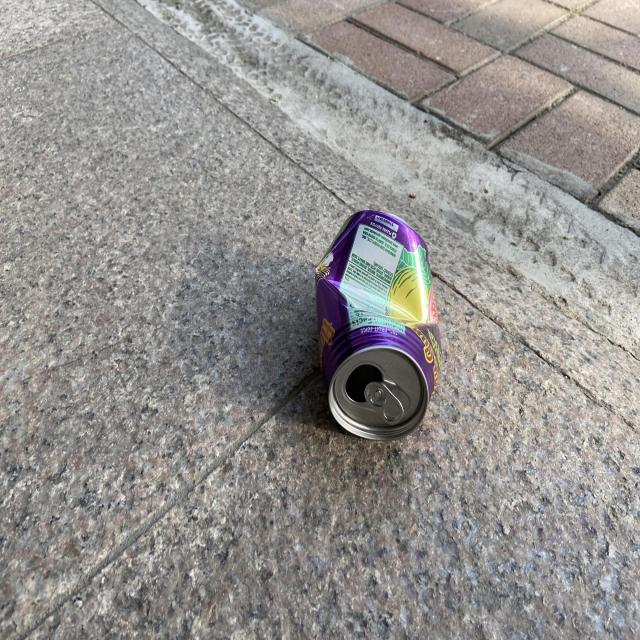can: (316, 210, 443, 440)
